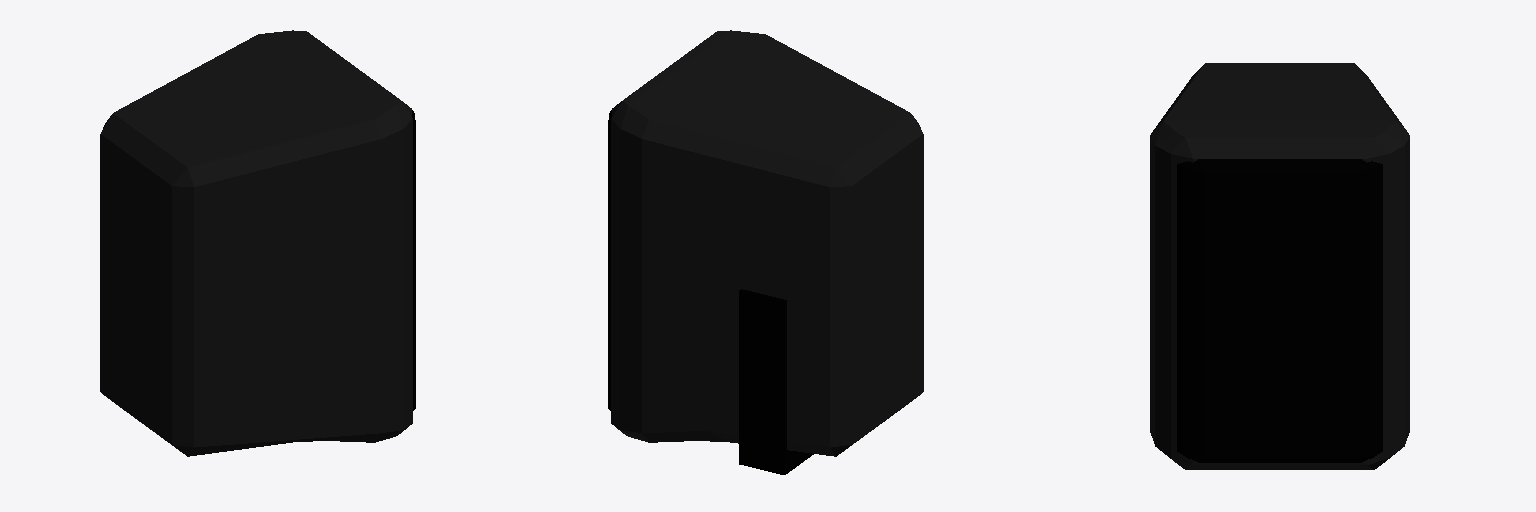
The model's file is luidspreker_gedraaid_R.obj.
3 renders of one model, left to right at view 1: azimuth 30°, elevation 25°; view 2: azimuth 150°, elevation 25°; view 3: azimuth 270°, elevation 25°, orthographic.
Parts seen in each view (by area): view 1: Cube, Cube.001_Cube.002; view 2: Cube, Cube.002_Cube.003, Cube.001_Cube.002; view 3: Cube.001_Cube.002, Cube.
Boxes of the visible parts, x1=… form: Cube: x1=100, y1=30, x2=412, y2=456; Cube.001_Cube.002: x1=412, y1=110, x2=415, y2=410; Cube: x1=611, y1=30, x2=923, y2=456; Cube.002_Cube.003: x1=739, y1=289, x2=813, y2=474; Cube.001_Cube.002: x1=608, y1=110, x2=611, y2=410; Cube.001_Cube.002: x1=1177, y1=159, x2=1382, y2=462; Cube: x1=1150, y1=63, x2=1409, y2=469.
Bounding box in the file's own units: 0.6767 × 0.8981 × 0.6382.